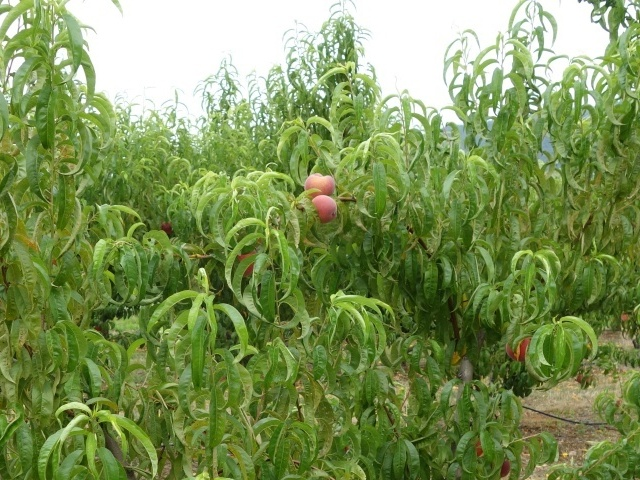peach: (301, 170, 339, 203), (504, 332, 539, 365), (310, 192, 344, 225)
